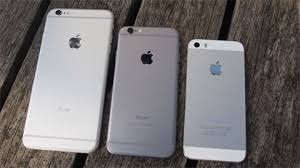iphone: (18, 5, 115, 155), (106, 25, 183, 156), (180, 35, 254, 163)
